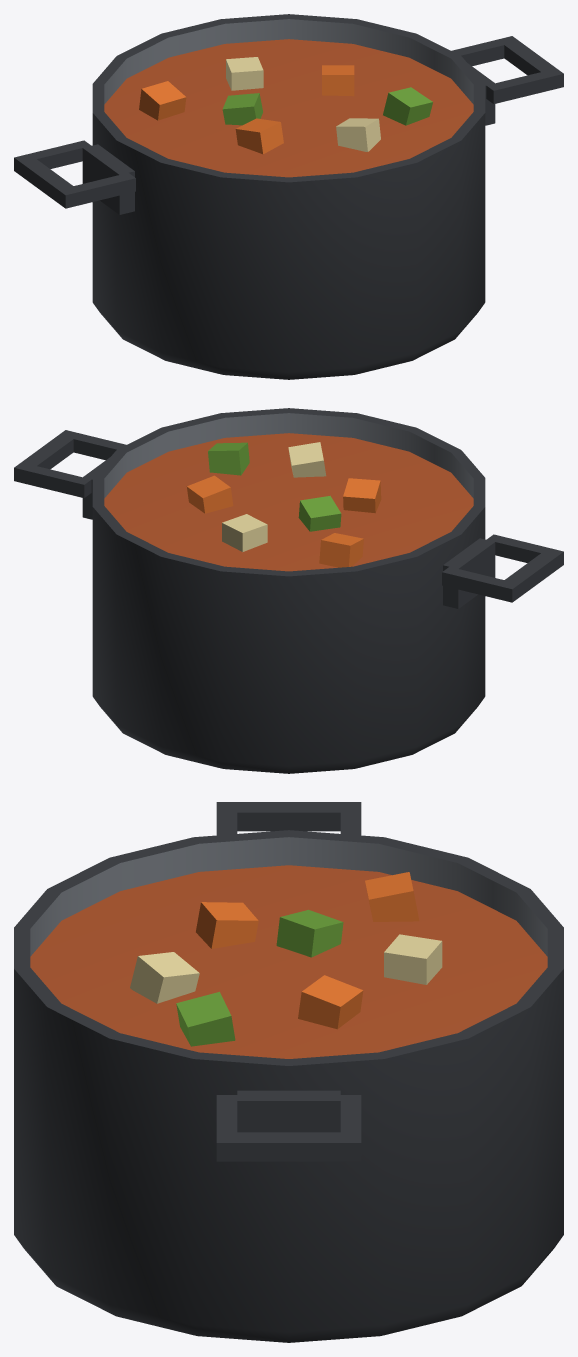
The model's file is mealPot.glb.
3 renders of one model, top to bottom at view 1: azimuth 30°, elevation 25°; view 2: azimuth 150°, elevation 25°; view 3: azimuth 270°, elevation 25°, orthographic. The views are drawn at different scales.
Visible parts, largest first — view 1: mealPot; view 2: mealPot; view 3: mealPot.
Part boxes in pixels (bbox=[...]): mealPot: bbox=[14, 14, 563, 379]; mealPot: bbox=[14, 408, 563, 773]; mealPot: bbox=[14, 802, 563, 1342].
Size of the model in its own units: 0.39 by 0.154 by 0.2659.
